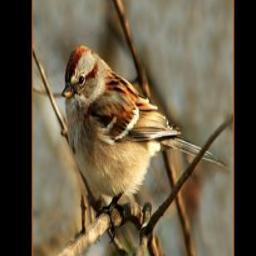Sparrow: (62, 44, 228, 247)
